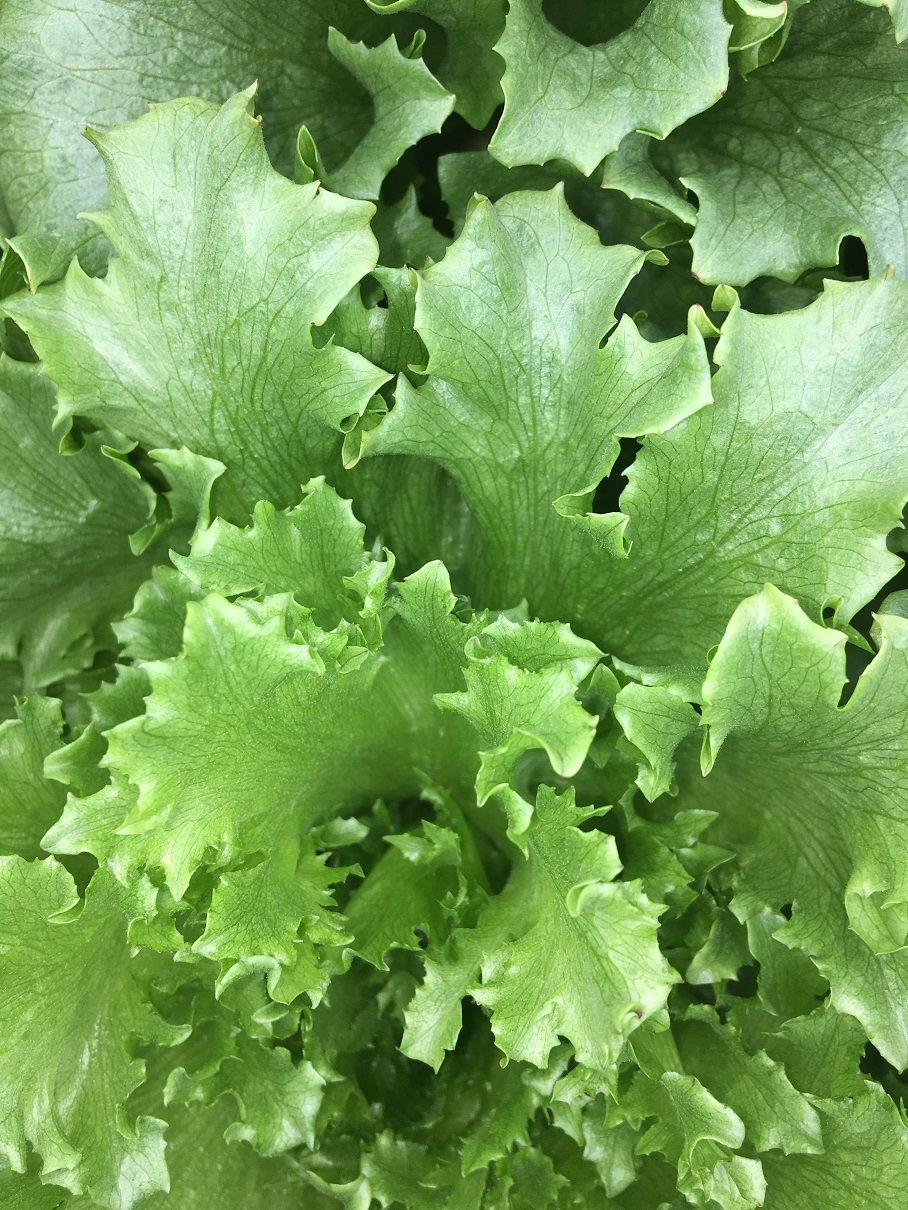tipburn: (616, 987, 661, 1034), (236, 109, 273, 141), (232, 69, 273, 96), (873, 249, 905, 283), (20, 271, 53, 303), (332, 453, 368, 482), (470, 188, 503, 215), (873, 1, 905, 25), (769, 1, 798, 25), (682, 261, 708, 287), (592, 173, 615, 196), (714, 84, 734, 106)
